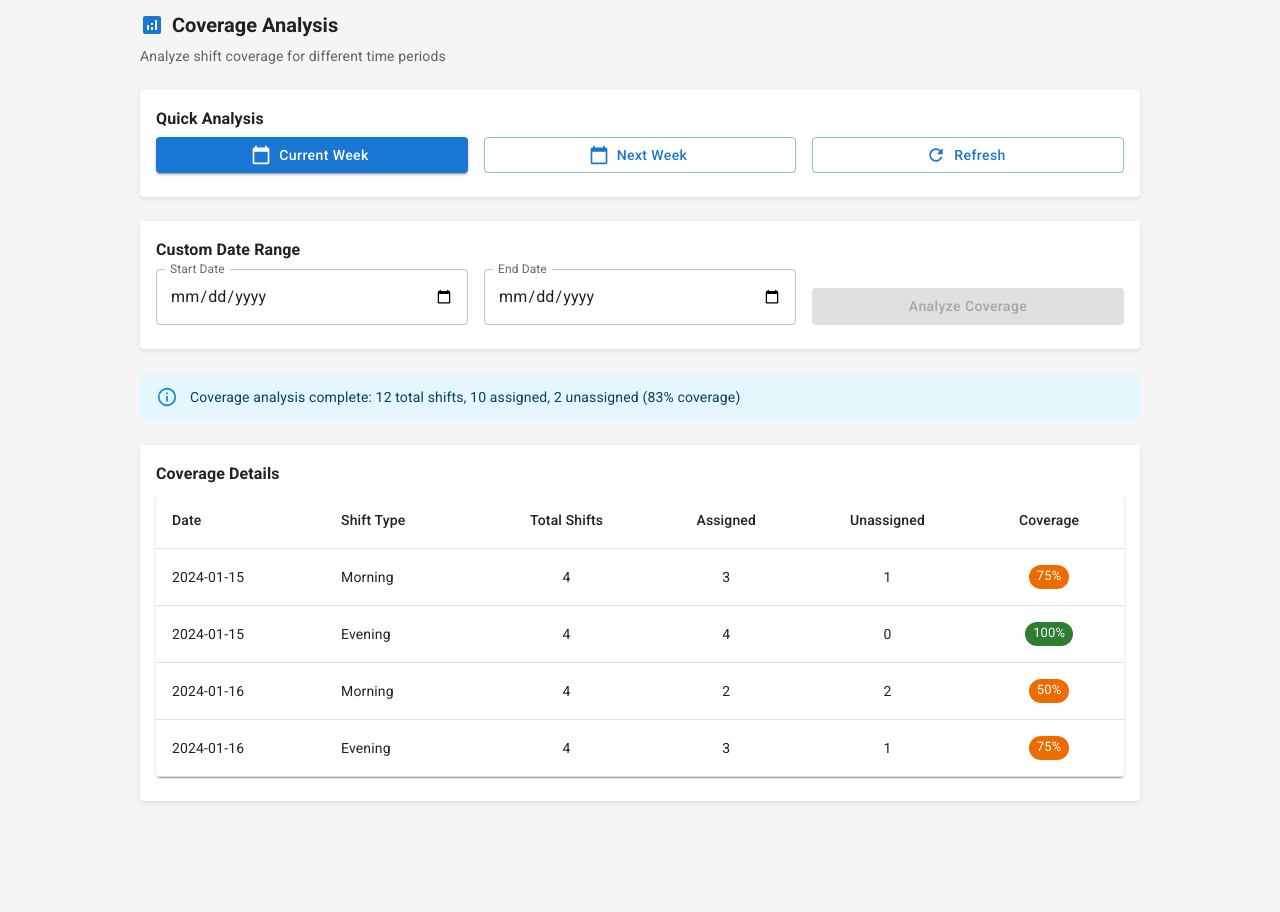
Test: CoverageAnalysisView › Loading States › shows loading spinner during analysis
The width and height of the screenshot is (1280, 912).
Click the button "Current Week" at (312, 155), box [156,137,468,173]
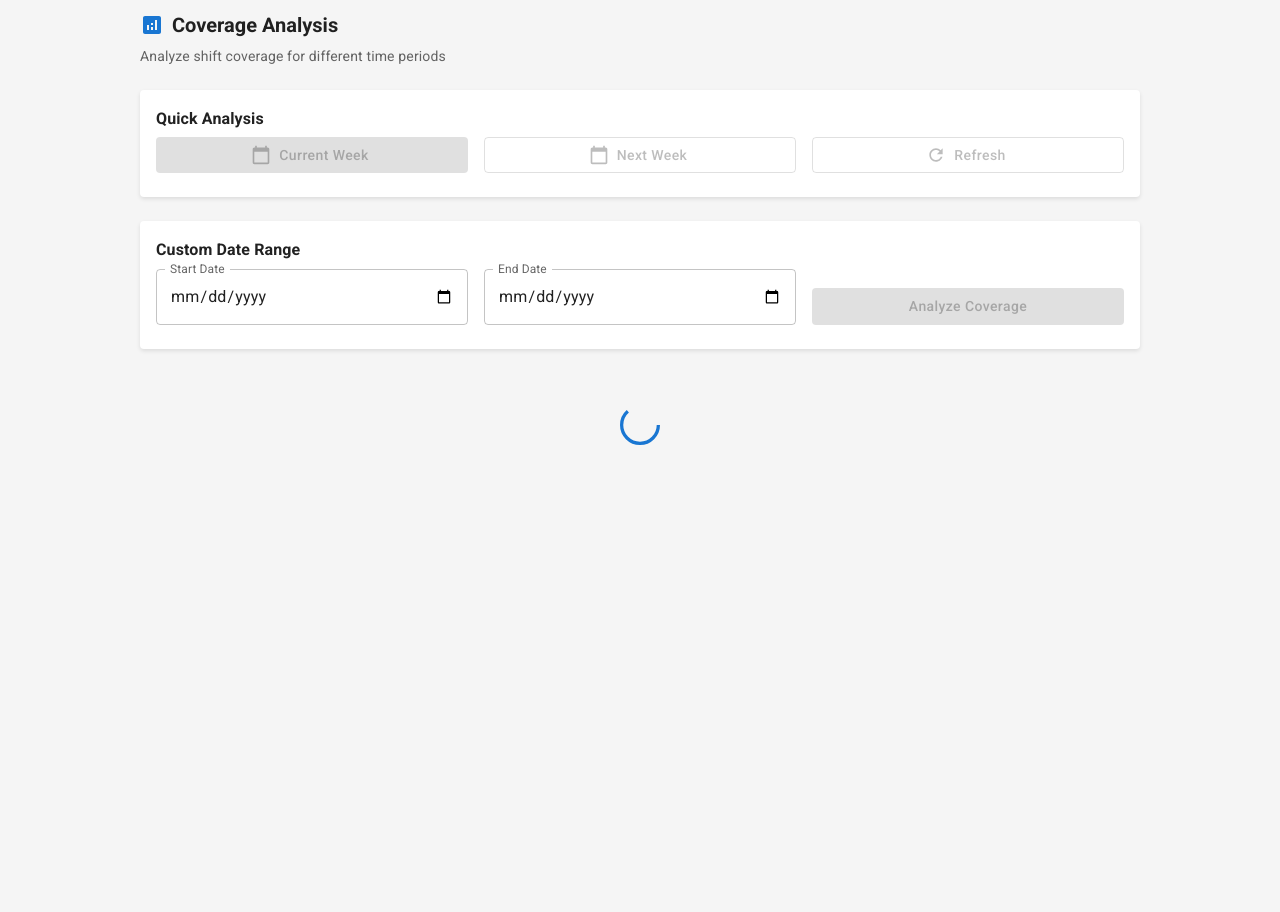
Expected: the progress indicator is shown, [620,405,660,445]
